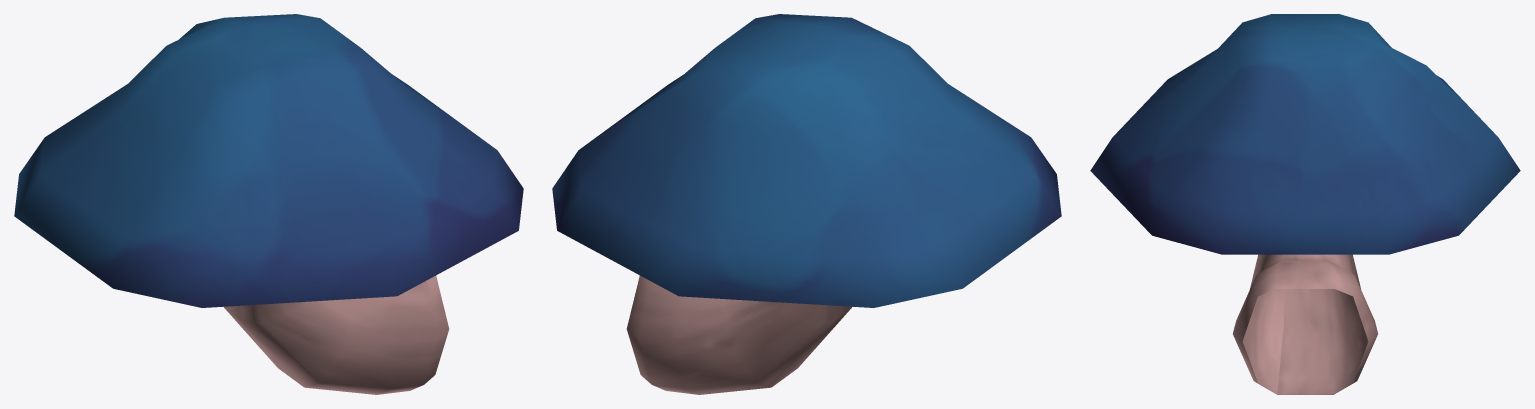
File: PROP_Shroom_02_block.fbx
3 views of the same model, side by side, from view 1: azimuth 30°, elevation 25°; view 2: azimuth 150°, elevation 25°; view 3: azimuth 270°, elevation 25° (orthographic). The views are drawn at different scales.
Visible parts, largest first — view 1: PROP_Shroom_02_block; view 2: PROP_Shroom_02_block; view 3: PROP_Shroom_02_block.
Boxes of the visible parts, x1,y1,x2,y2 form: PROP_Shroom_02_block: [14, 14, 523, 394]; PROP_Shroom_02_block: [552, 14, 1061, 394]; PROP_Shroom_02_block: [1090, 14, 1520, 394].
Bounding box in the file's own units: 59.15 × 50.58 × 64.03.
Materials: 1 (1 with a texture image).
